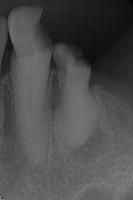Furcation Involvement: (72, 123, 109, 163)
